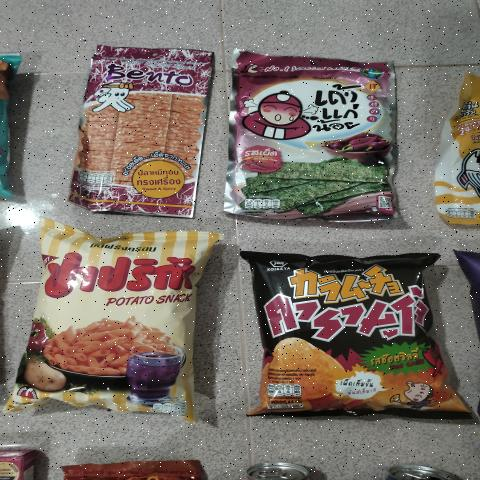bento_red: (78, 44, 198, 204)
karamujo: (258, 252, 437, 406)
paprika: (34, 237, 196, 412)
taokaenoi: (228, 53, 401, 217)
